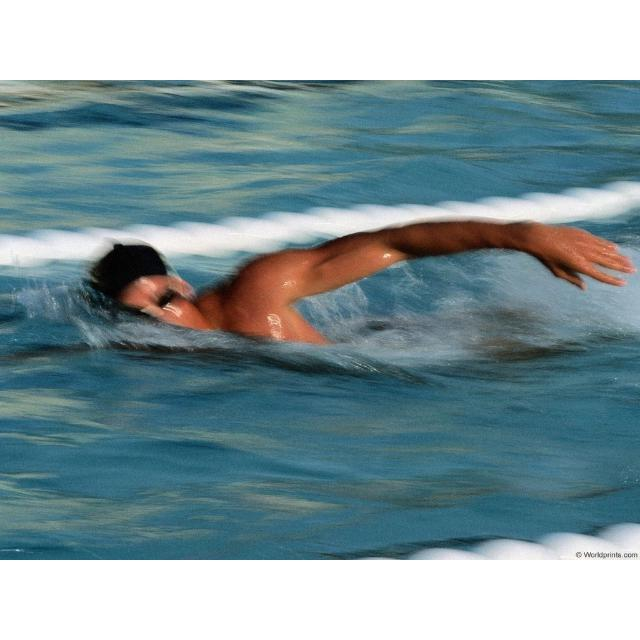human: (91, 215, 637, 366)
